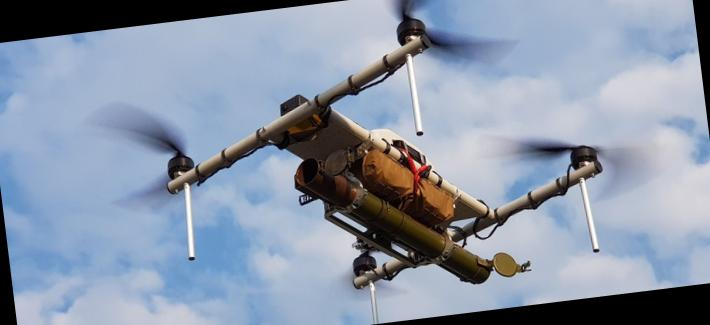drone: (88, 11, 659, 325)
